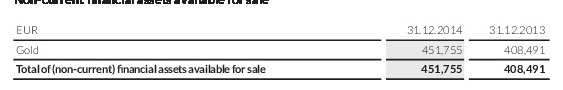table: (0, 0, 563, 90)
